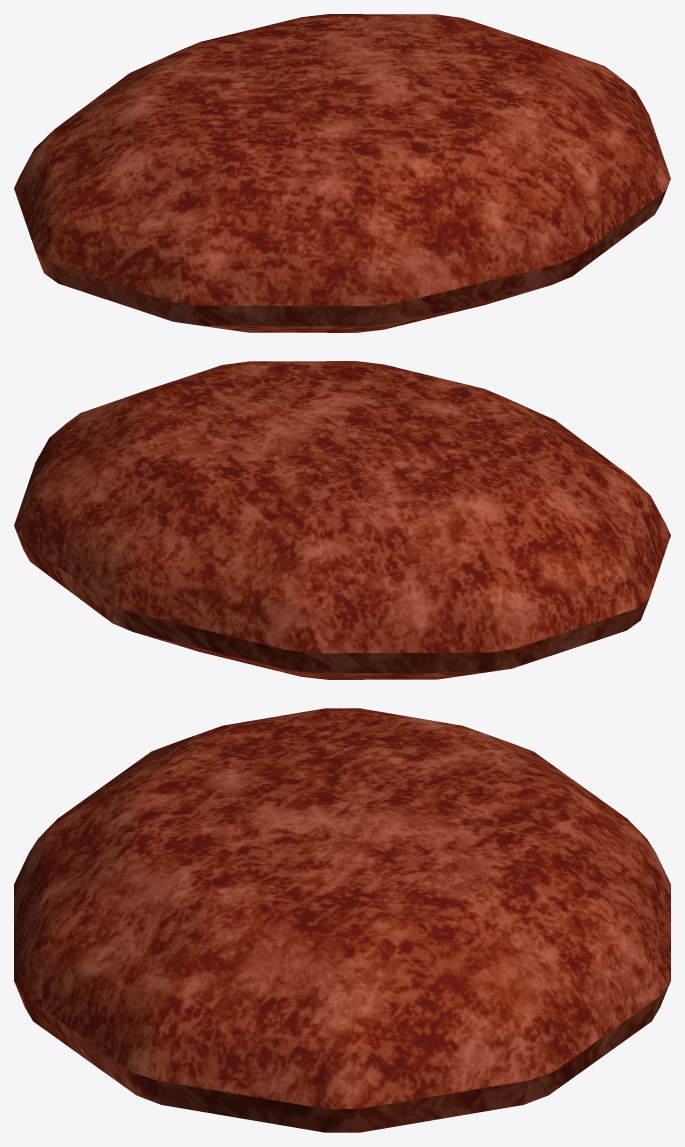
File: hanba-gu2.fbx
The picture shows the model from 3 angles, top to bottom: view 1: azimuth 30°, elevation 25°; view 2: azimuth 150°, elevation 25°; view 3: azimuth 270°, elevation 25°; orthographic projection. The views are drawn at different scales.
Parts seen in each view (by area): view 1: pSphere1; view 2: pSphere1; view 3: pSphere1.
Boxes of the visible parts, left/top/right/bottom form: pSphere1: left=14, top=14, right=670, bottom=332; pSphere1: left=14, top=361, right=670, bottom=679; pSphere1: left=14, top=708, right=670, bottom=1132.
Size of the model in its own units: 1.13 by 0.3253 by 0.8825.
Materials: 1 (1 with a texture image).
